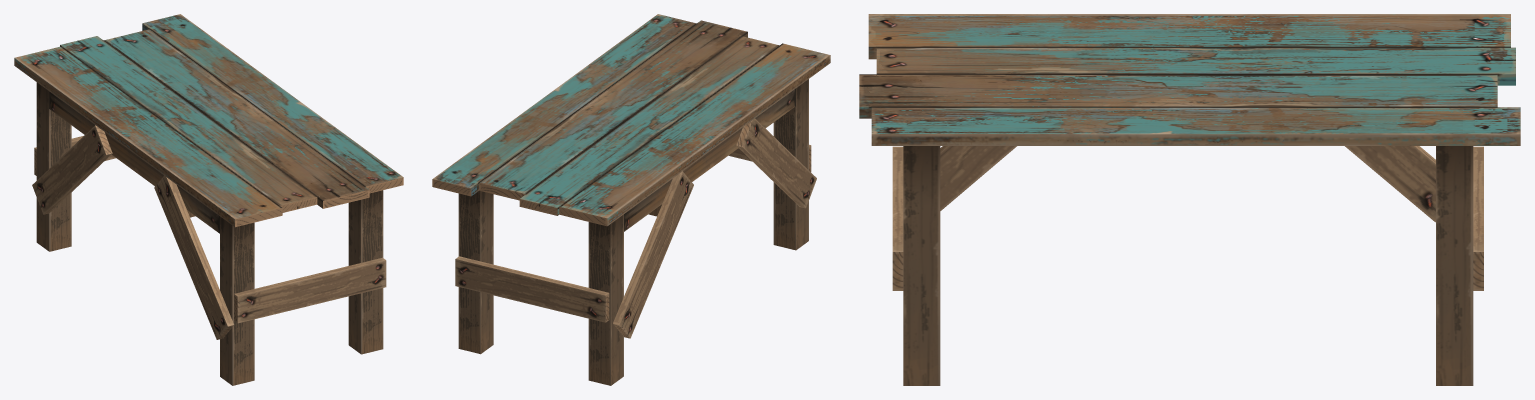
The model's file is table07.fbx.
3 views of the same model, side by side, from view 1: azimuth 30°, elevation 25°; view 2: azimuth 150°, elevation 25°; view 3: azimuth 270°, elevation 25° (orthographic). The views are drawn at different scales.
Visible parts, largest first — view 1: table07; view 2: table07; view 3: table07.
Part boxes in pixels (bbox=[...]): table07: bbox=[14, 14, 403, 385]; table07: bbox=[432, 14, 830, 385]; table07: bbox=[859, 14, 1520, 385].
Bounding box in the file's own units: 90 × 90 × 209.
